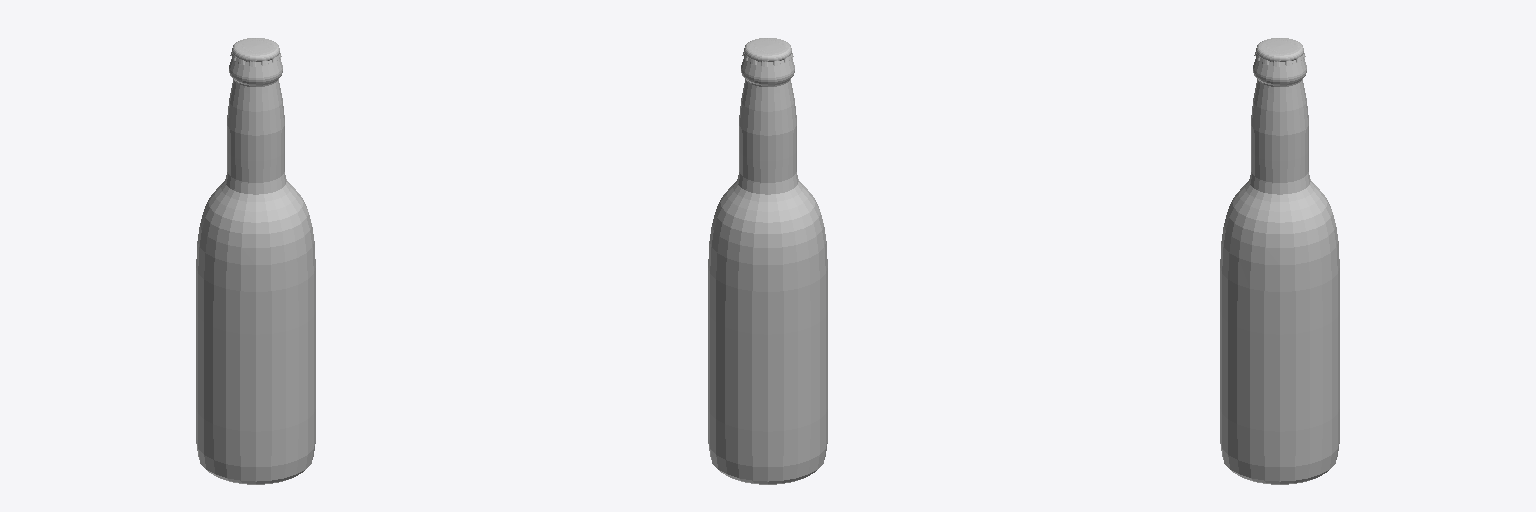
The model's file is Corona_normalized.obj.
3 renders of one model, left to right at view 1: azimuth 30°, elevation 25°; view 2: azimuth 150°, elevation 25°; view 3: azimuth 270°, elevation 25°, orthographic.
Parts seen in each view (by area): view 1: Botella Mesh Mesh; view 2: Botella Mesh Mesh; view 3: Botella Mesh Mesh.
Part boxes in pixels (bbox=[...]): Botella Mesh Mesh: bbox=[196, 38, 315, 484]; Botella Mesh Mesh: bbox=[708, 38, 827, 484]; Botella Mesh Mesh: bbox=[1220, 38, 1339, 484].
Size of the model in its own units: 1.06 by 4.05 by 1.06.